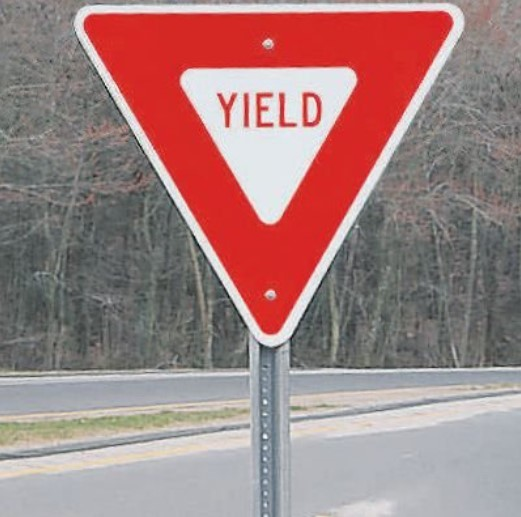Yeild: (72, 1, 469, 349)
